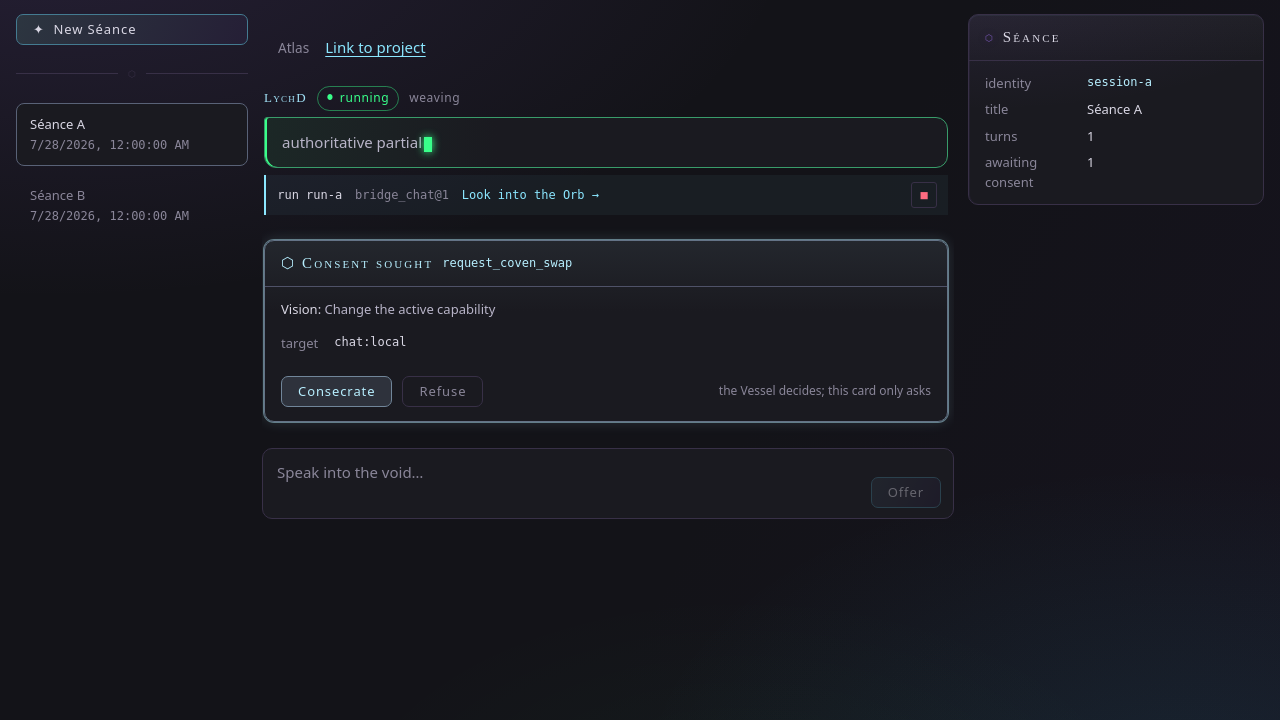
Bridge route and stream ownership › reconciles cancellation from authoritative consent state
Check: the button "Consecrate" is shown, box [281,376,392,406]
What coordinates should you click on to do the following:
click the button named "Cancel run run-a"
I would click on:
 (924, 195)
Its box is [911,182,937,208].
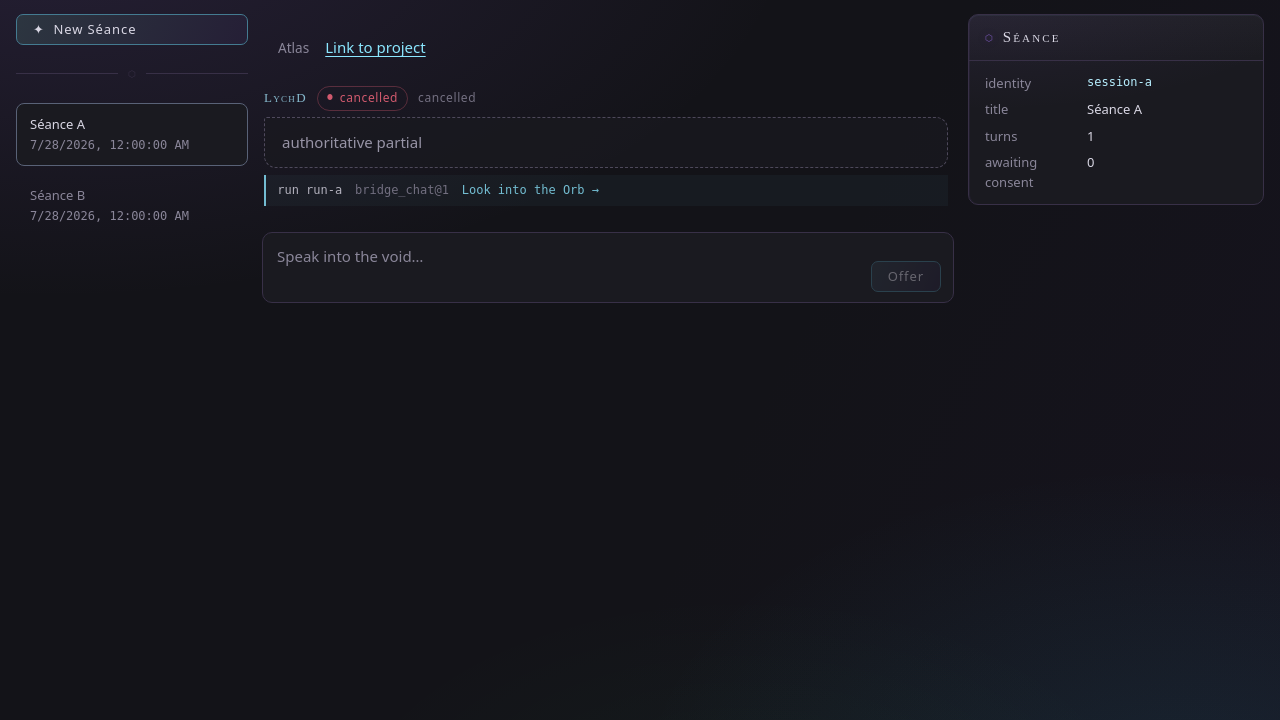
Check: the button "Consecrate" is gone
